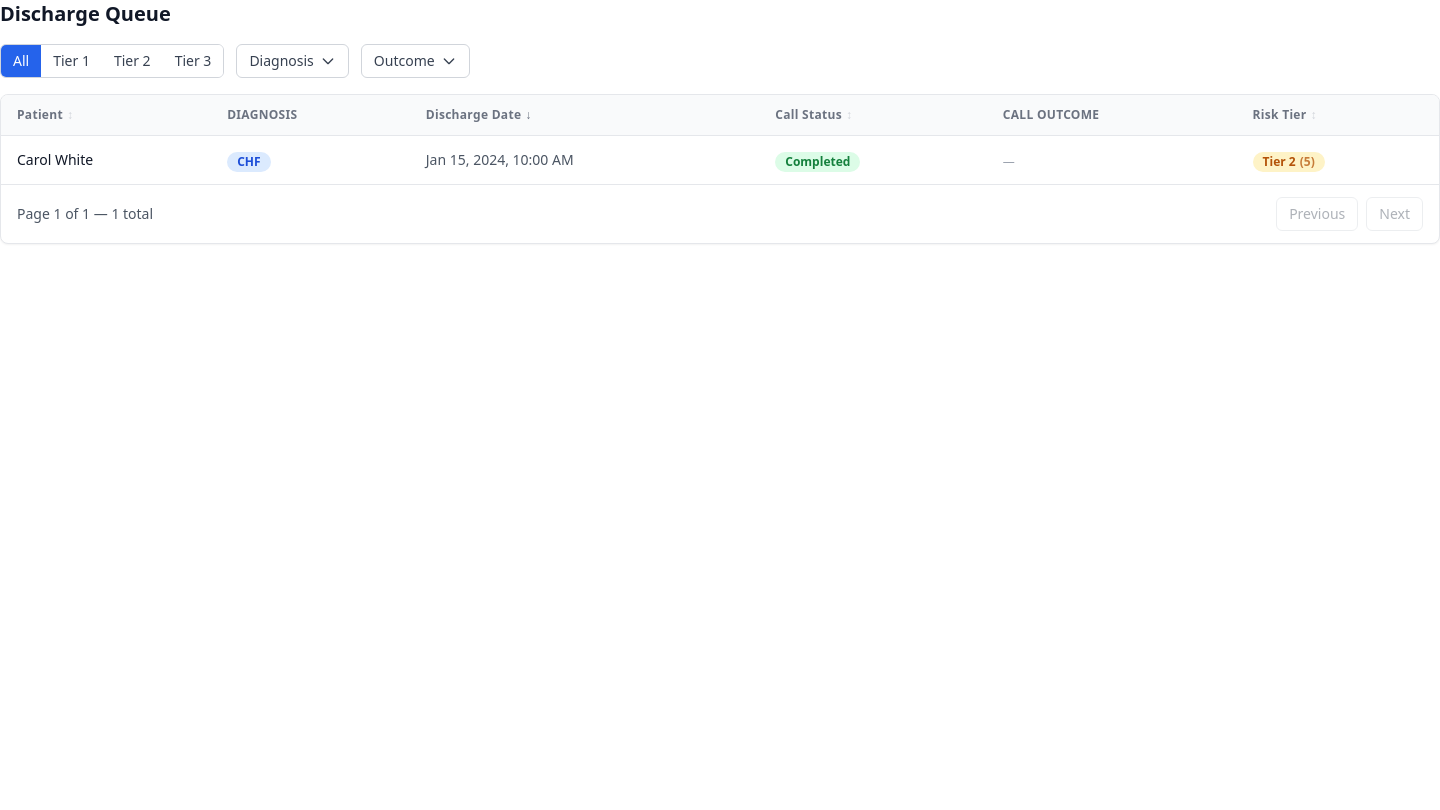
Test: 12.17 – Physician rows non-interactive; Admin/Nurse rows open drawer › Admin: clicking a row opens the drawer
The image size is (1440, 810).
Check: the text "Carol White" is shown, box [1, 136, 211, 184]
Click the text "Carol White" at (55, 160), box [1, 136, 1439, 184]
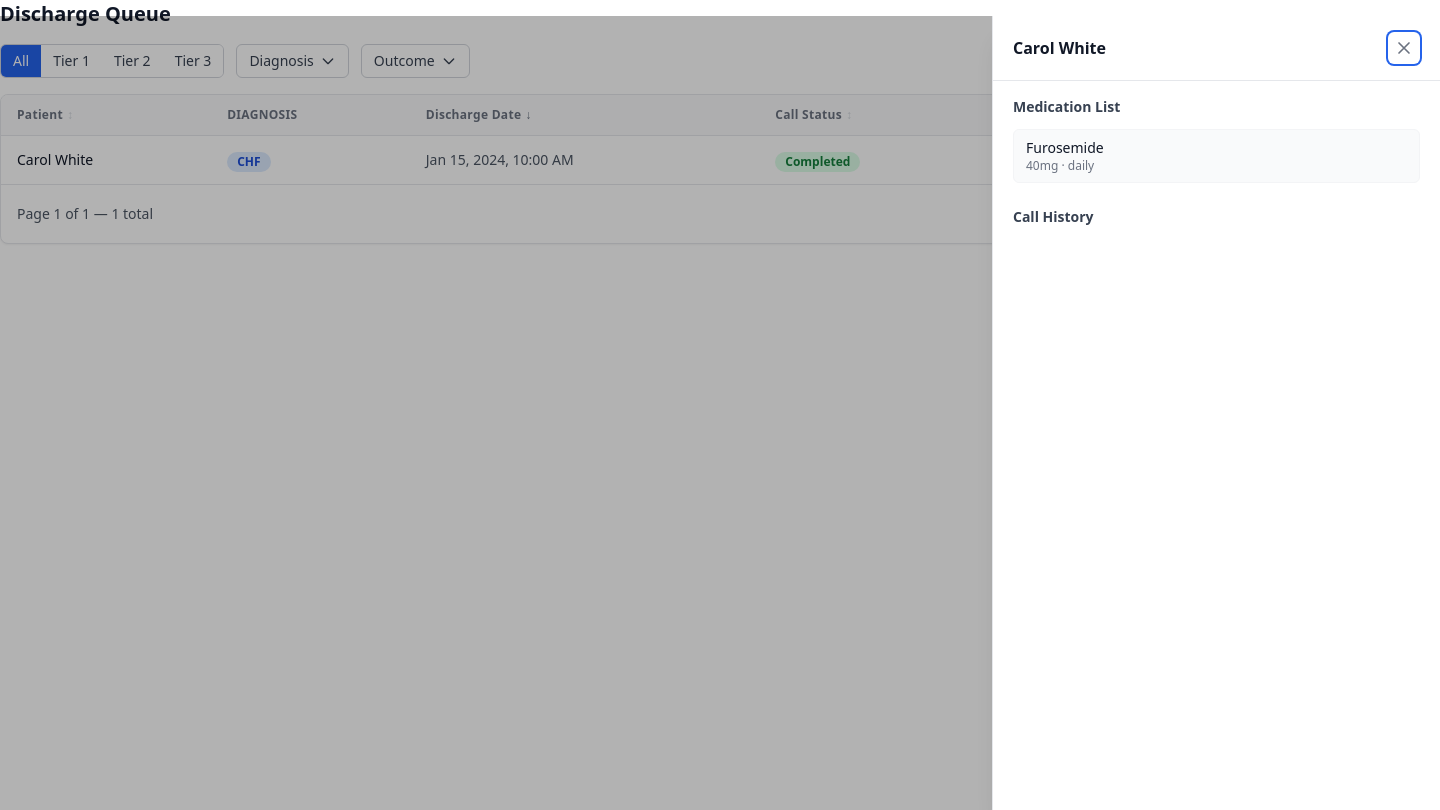
Check: the dialog is shown, box [992, 16, 1439, 809]
